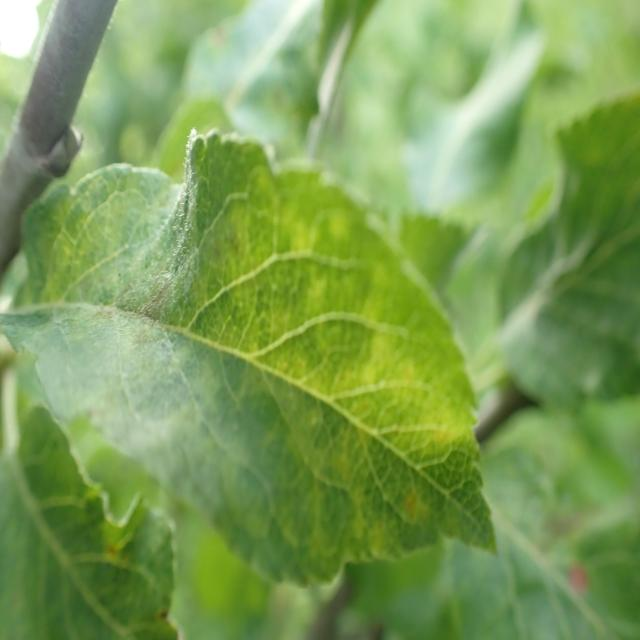scab: (37, 165, 446, 548)
